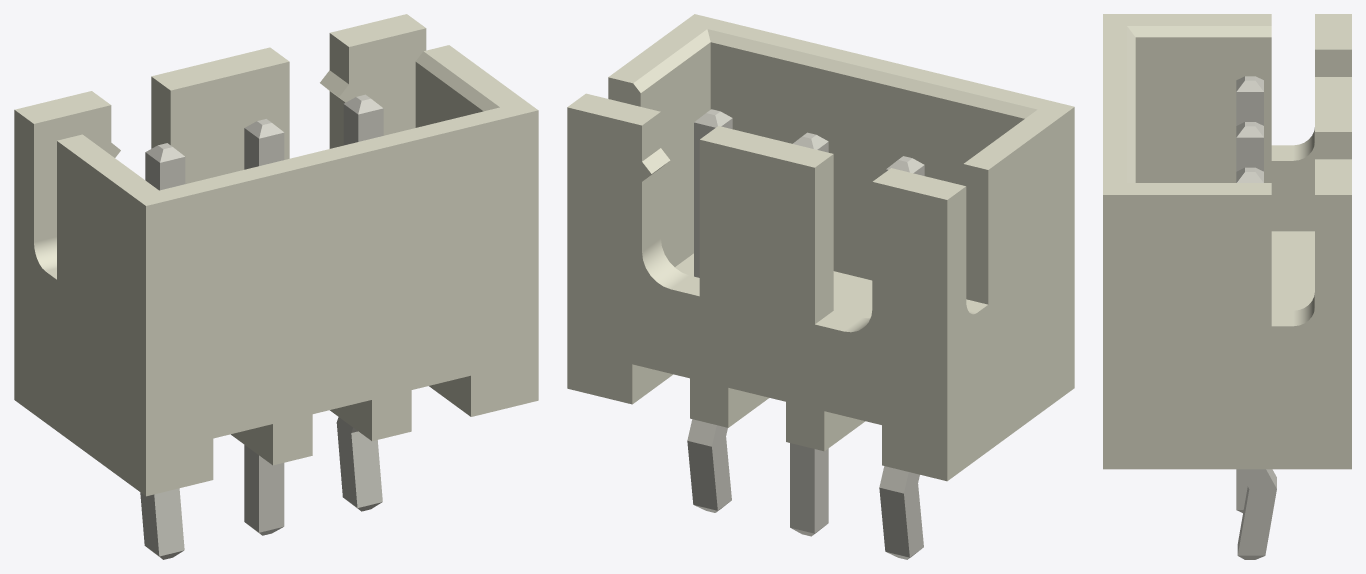
The model's file is JST_XH_B3B-XH-A_1x03_P2.50mm_Vertical.glb.
3 views of the same model, side by side, from view 1: azimuth 30°, elevation 25°; view 2: azimuth 150°, elevation 25°; view 3: azimuth 270°, elevation 25° (orthographic). The views are drawn at different scales.
Visible parts, largest first — view 1: =>[0:1:1:3]; view 2: =>[0:1:1:3]; view 3: =>[0:1:1:3].
Part boxes in pixels (bbox=[...]): =>[0:1:1:3]: bbox=[14, 14, 538, 559]; =>[0:1:1:3]: bbox=[567, 14, 1074, 559]; =>[0:1:1:3]: bbox=[1103, 14, 1351, 559].
Size of the model in its own units: 0.0099 by 0.0104 by 0.00575.
